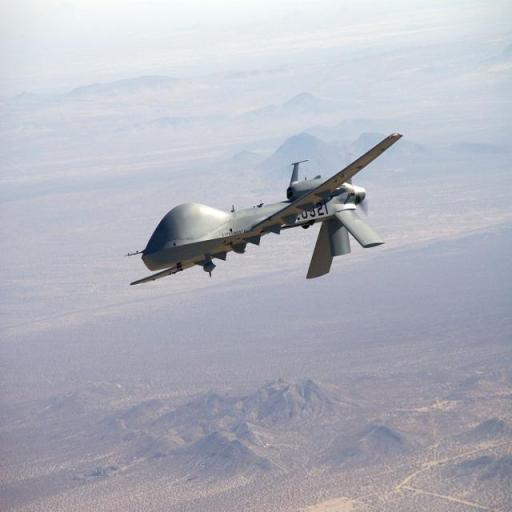uav: (120, 132, 411, 283)
